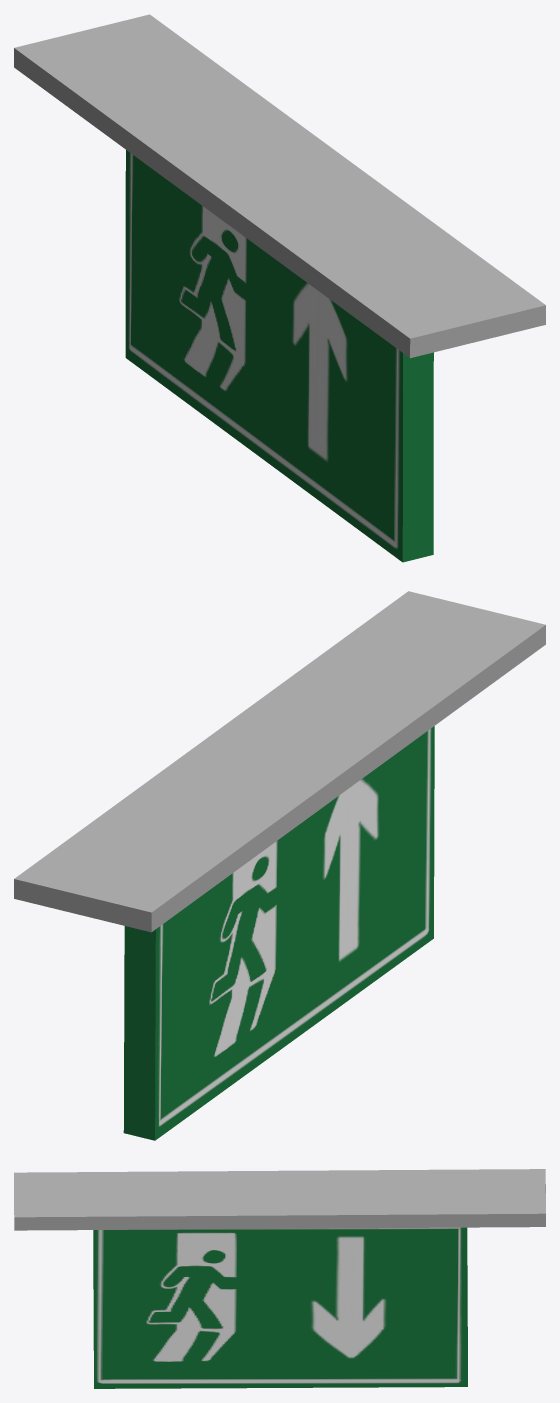
Rendered from ExitSign.fbx.
3 renders of one model, top to bottom at view 1: azimuth 30°, elevation 25°; view 2: azimuth 150°, elevation 25°; view 3: azimuth 270°, elevation 25°, orthographic. The views are drawn at different scales.
Visible parts, largest first — view 1: Cube; view 2: Cube; view 3: Cube.
Part boxes in pixels (x1,y1,x2,y2): Cube: (14, 14, 545, 562); Cube: (14, 591, 545, 1140); Cube: (14, 1169, 545, 1388).
Size of the model in its own units: 109 by 213 by 536.
Materials: 1 (1 with a texture image).
